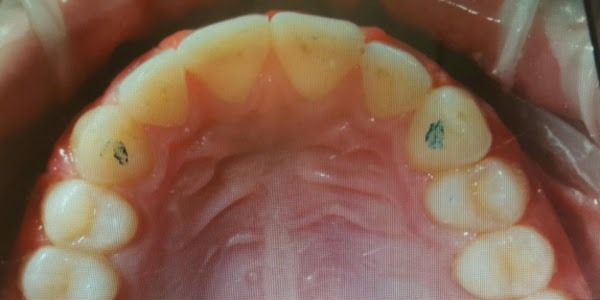UL1BC_healthy: (423, 163, 532, 227)
UL2BC_healthy: (453, 230, 556, 290)
ULCI_healthy: (273, 11, 363, 99)
ULC_decay: (415, 85, 491, 165)
ULLI_healthy: (363, 43, 432, 121)
UR1BC_healthy: (46, 183, 142, 252)
UR2BC_healthy: (24, 250, 121, 300)
URCI_healthy: (183, 16, 268, 92)
URC_decay: (68, 108, 154, 181)
URLI_healthy: (121, 54, 190, 123)
